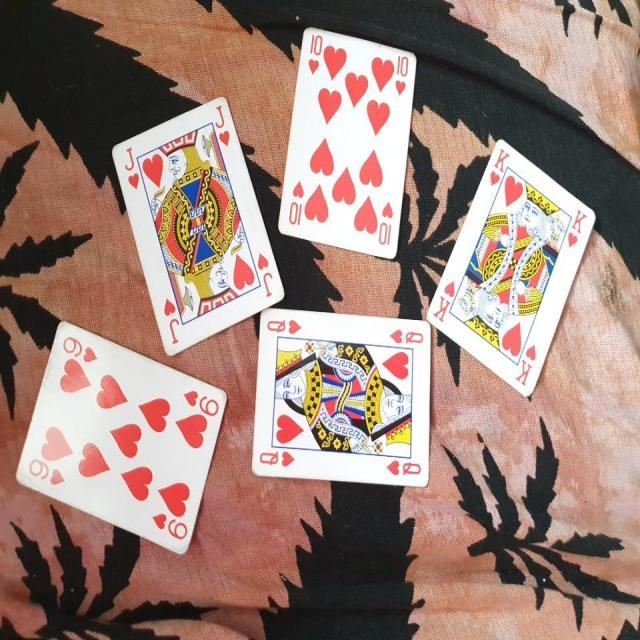10 of hearts: (271, 21, 418, 274)
9 of hearts: (14, 317, 235, 562)
jack of hearts: (108, 87, 284, 360)
king of hearts: (427, 132, 600, 412)
queen of hearts: (250, 301, 440, 506)
